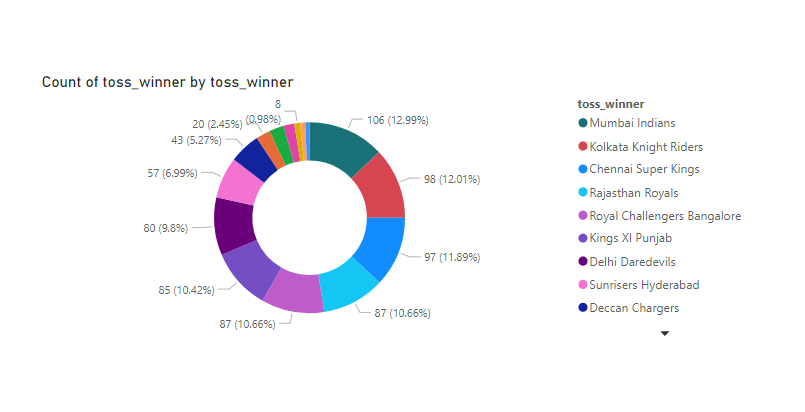

Layout of this report page (visuals, bound fields, positions):
{"tool":"powerbi","page":{"name":"Page 2","canvas":[1280,720],"ordinal":1},"visuals":[{"type":"donutChart","fields":{"Category":["IPL Matches 2008-2020.toss_winner"],"Y":["CountNonNull(IPL Matches 2008-2020.toss_winner)"]},"box":[248.6,147,788.3,299.4],"z":0}]}

Visuals, with their boxes on the page's 1280x720 design canvas (x1, y1, x2, y2). These are canvas units, not pixel positions in the 805x412 screenshot, which may show the page scaled, cropped or inside an application window:
donutChart - IPL Matches 2008-2020.toss_winner x CountNonNull(IPL Matches 2008-2020.toss_winner): box=[249, 147, 1037, 446]
